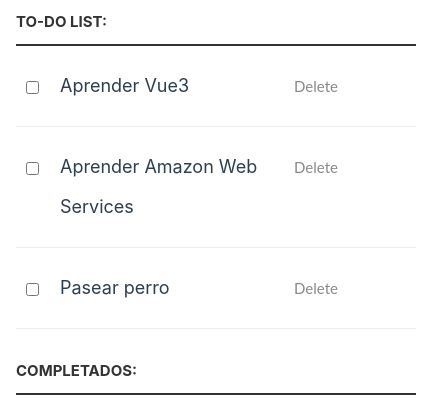
Test: HelloView.vue integration tests › Todo is completable
The width and height of the screenshot is (433, 412).
Expected: the list shows "Aprender Vue3", [60, 74, 189, 96]
Click the checkbox next to "Aprender Vue3" at [32, 87], box [26, 80, 39, 94]
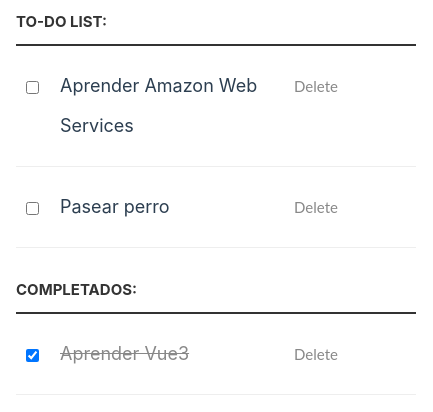
Expected: the list "Aprender Vue3 Delete" is shown, [16, 314, 416, 394]
Result: the list no longer shows "Aprender Vue3"
